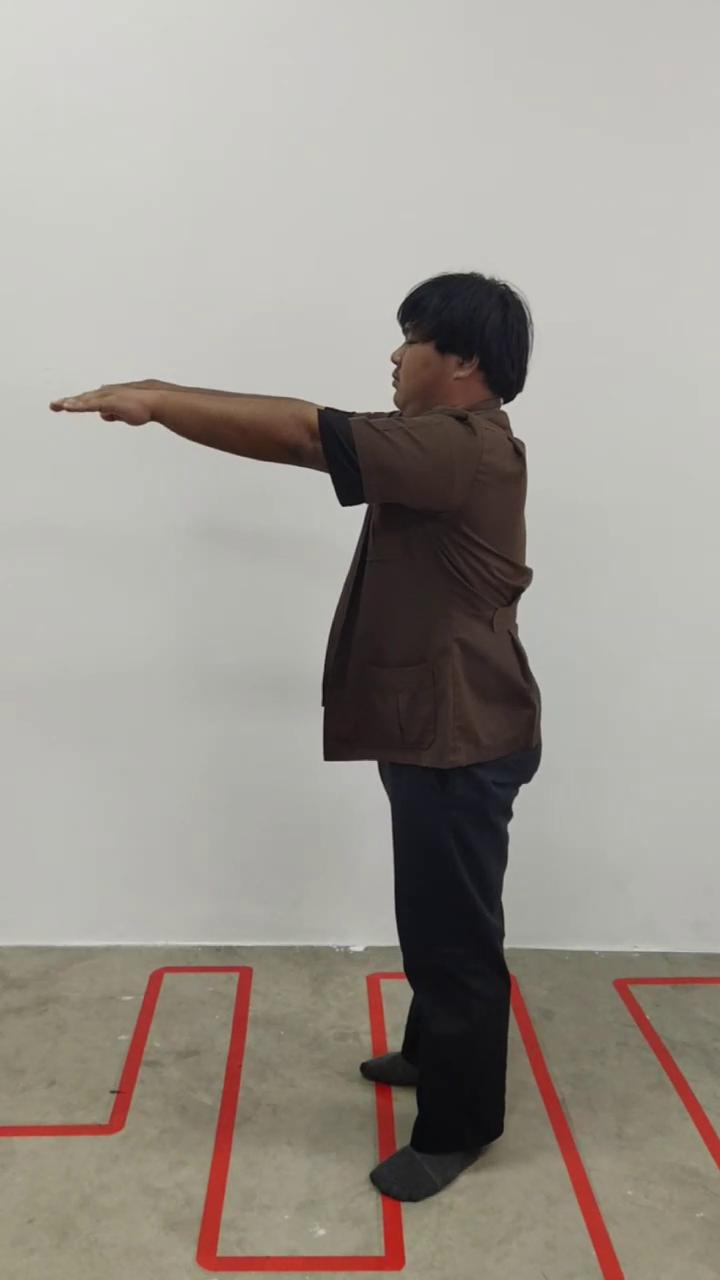squat up: (56, 270, 543, 1206)
